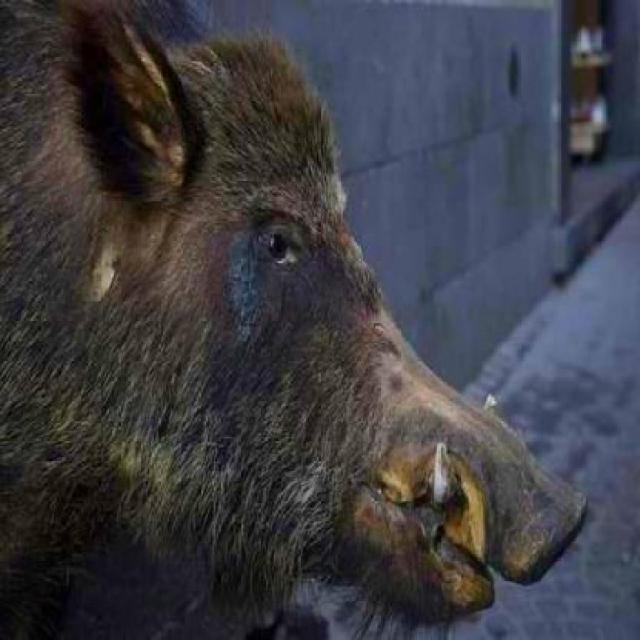Boar: (10, 0, 575, 603)
